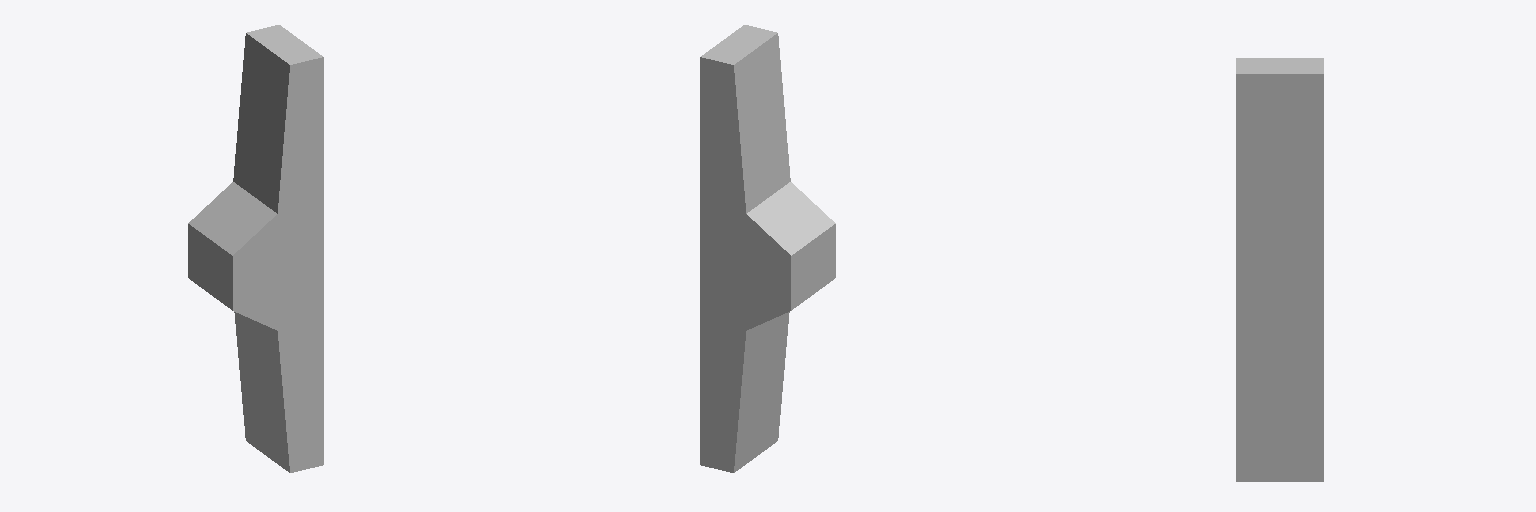
Rendered from roughShield.obj.
3 renders of one model, left to right at view 1: azimuth 30°, elevation 25°; view 2: azimuth 150°, elevation 25°; view 3: azimuth 270°, elevation 25°, orthographic.
Parts seen in each view (by area): view 1: Cube.001_Cube.002; view 2: Cube.001_Cube.002; view 3: Cube.001_Cube.002.
Part boxes in pixels (x1,y1,x2,y2): Cube.001_Cube.002: (188, 25, 323, 472); Cube.001_Cube.002: (700, 25, 835, 472); Cube.001_Cube.002: (1236, 58, 1323, 481).
Bounding box in the file's own units: 0.1787 × 0.7647 × 0.1507.